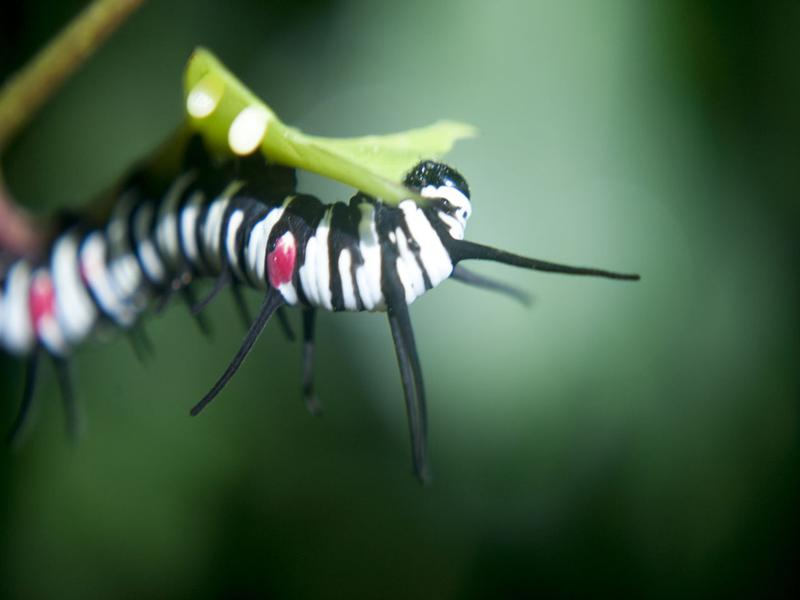Rice_horned_caterpillar: (10, 124, 507, 403)
